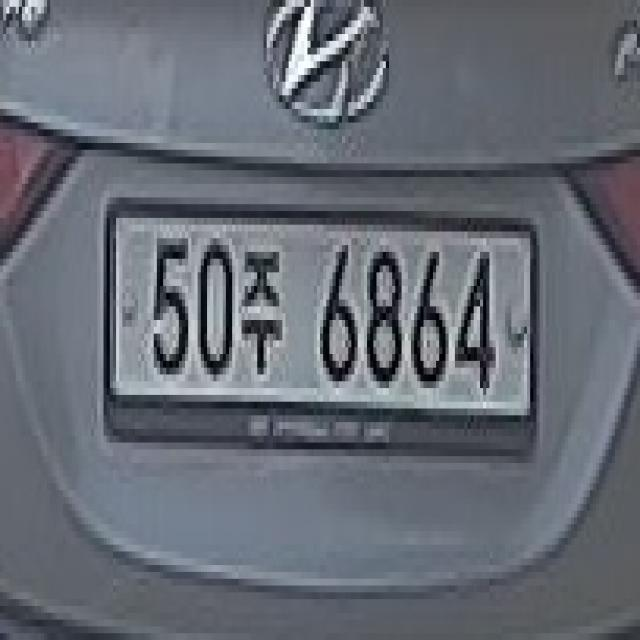0: (197, 231, 235, 389)
4: (454, 246, 502, 403)
5: (146, 232, 190, 381)
6: (306, 246, 360, 390), (412, 246, 448, 392)
8: (363, 238, 404, 396)
ju: (240, 245, 288, 388)
license_plate: (79, 183, 558, 472)
